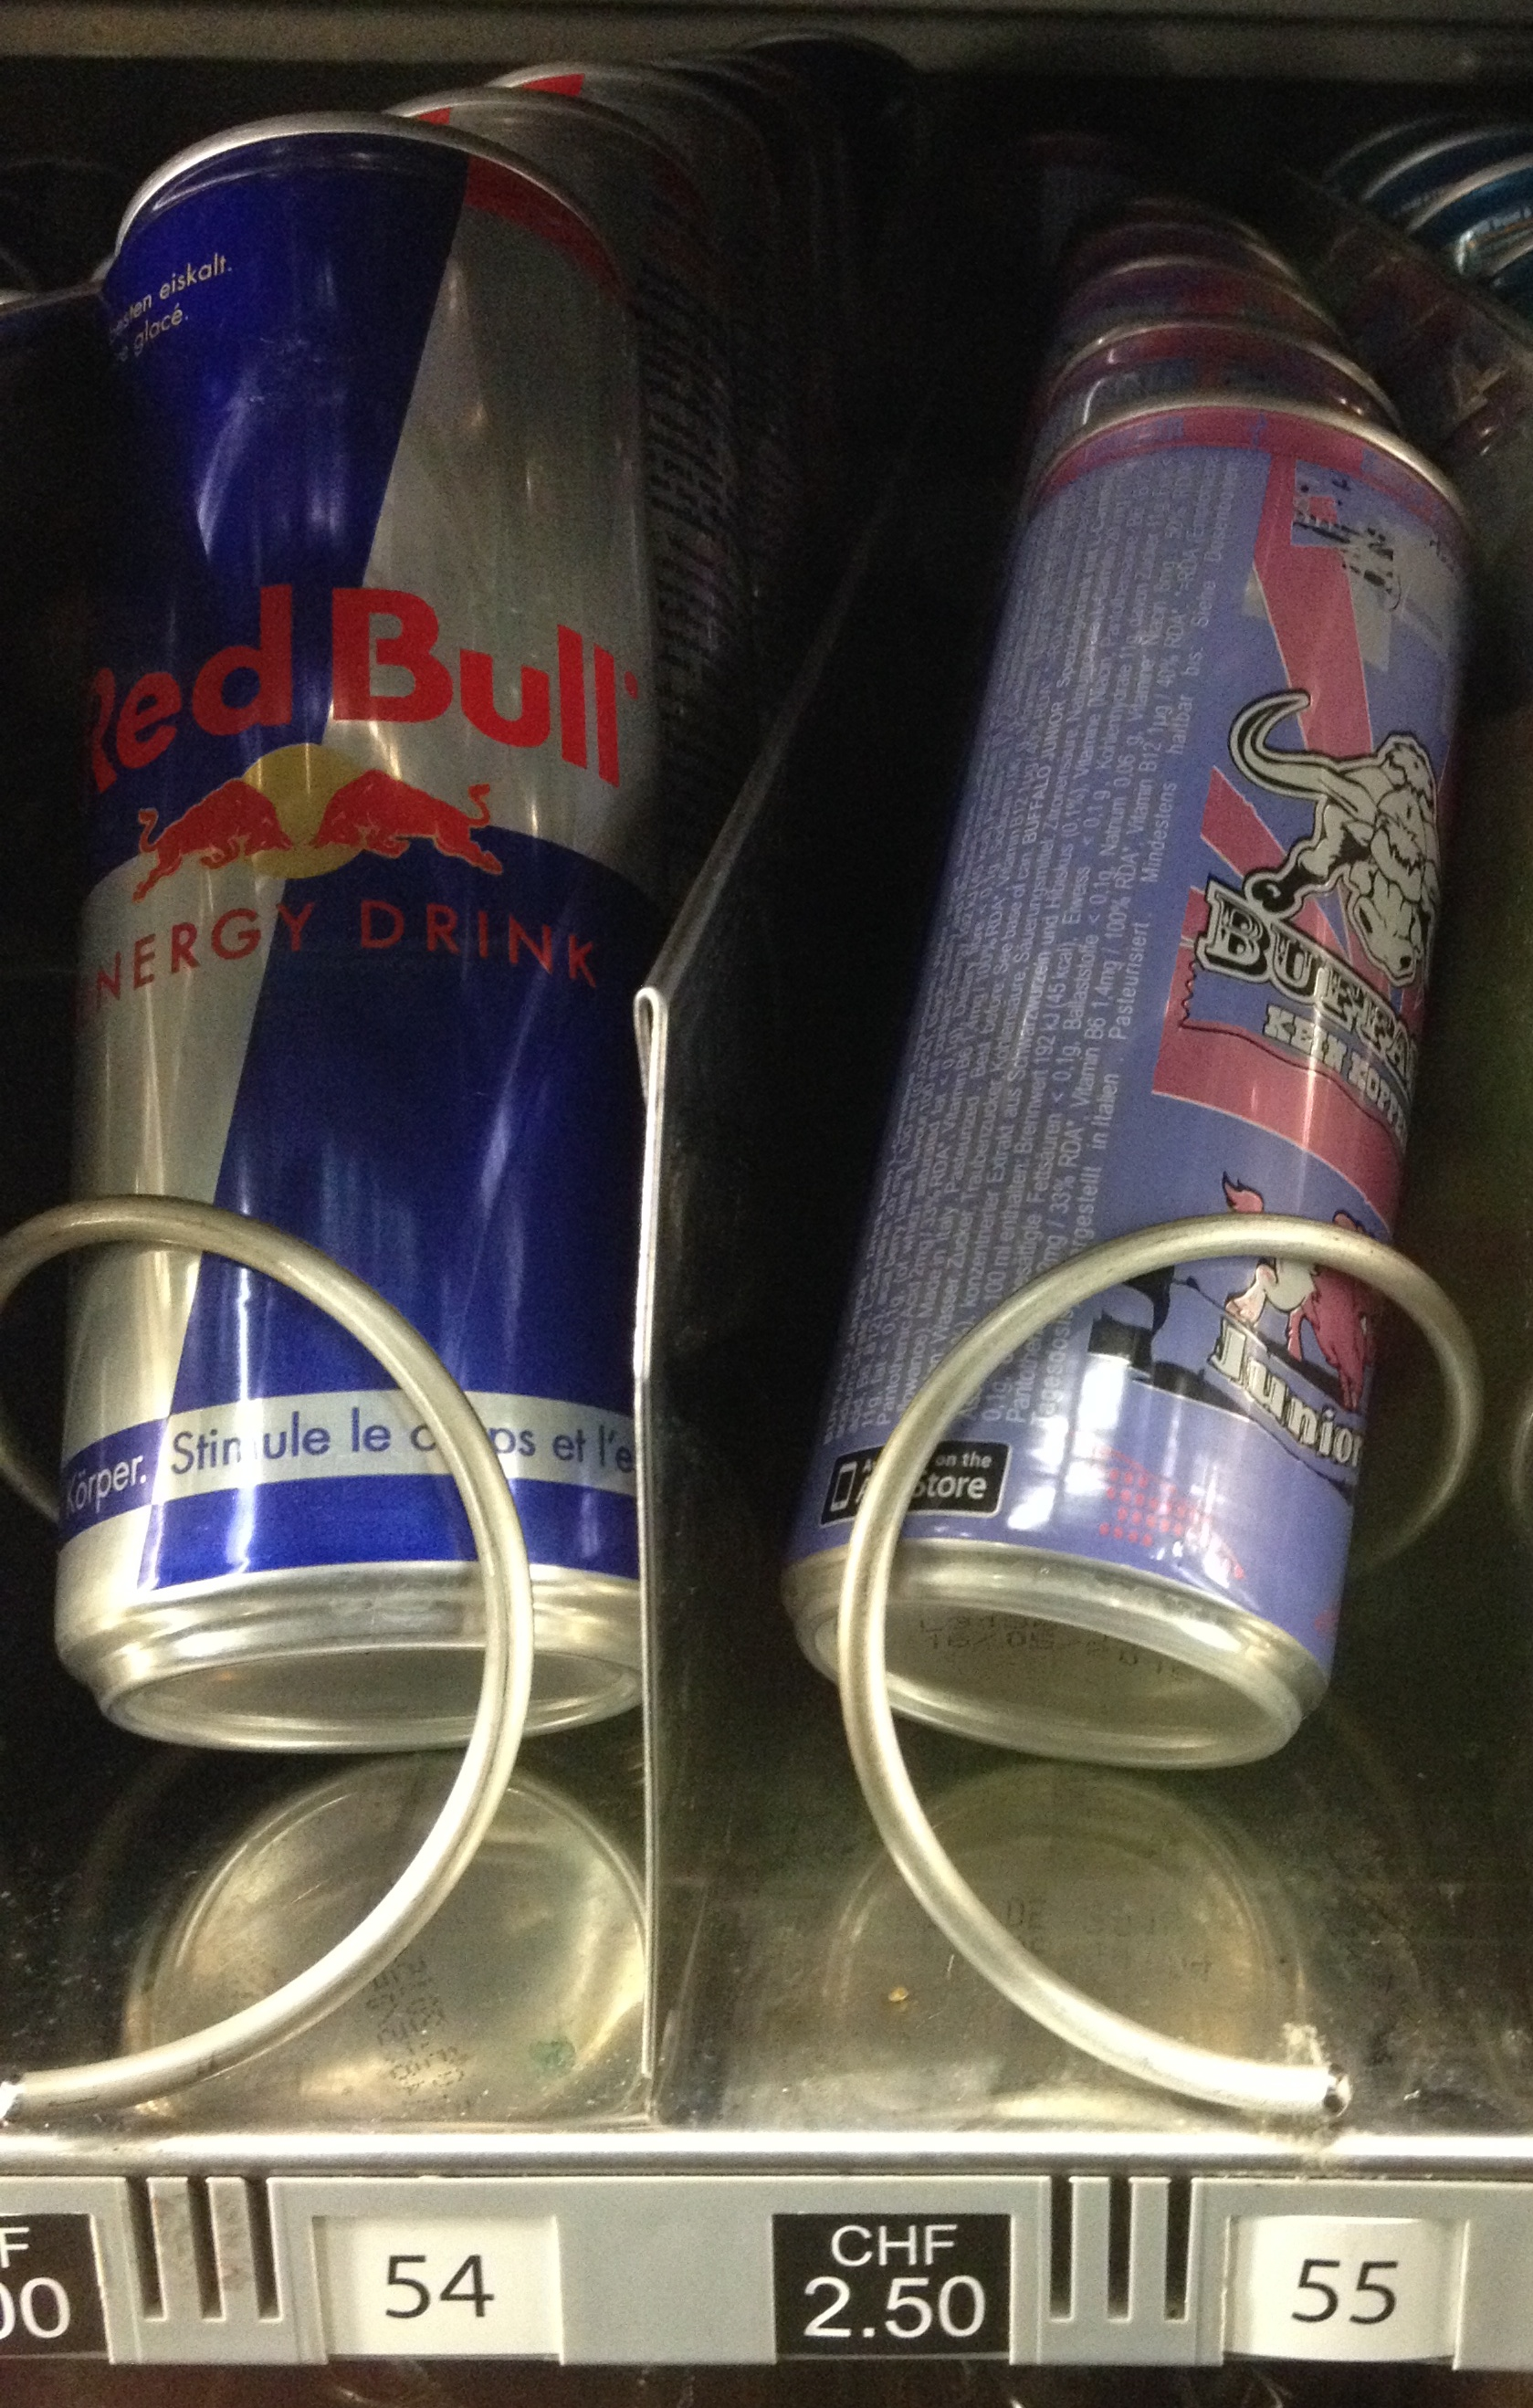redbull: (58, 123, 682, 1759)
